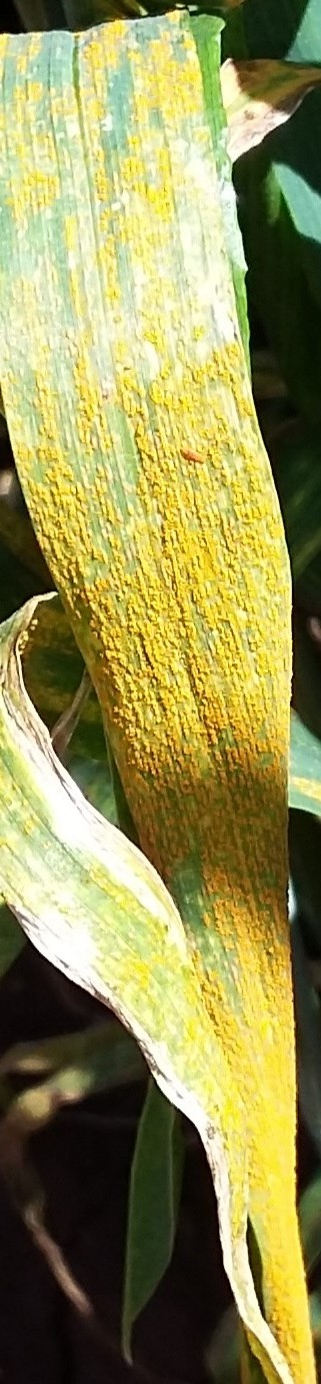Leaf Rust: (5, 146, 320, 1058)
